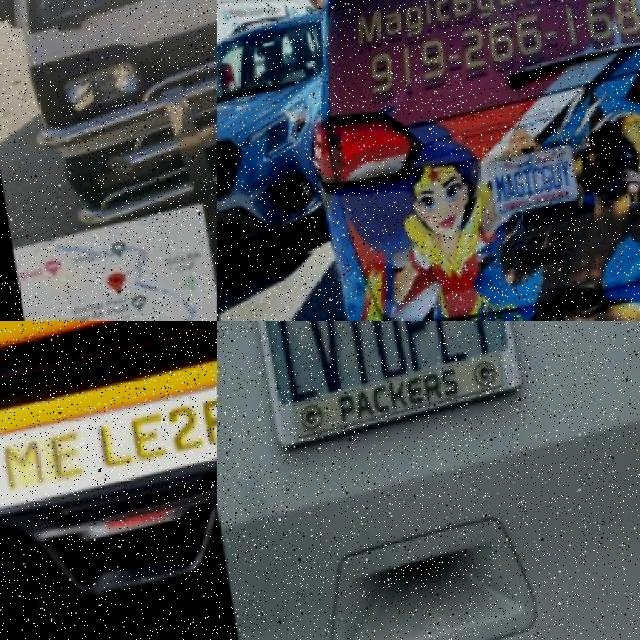licenseplate: (240, 320, 528, 457), (0, 392, 217, 512), (489, 147, 580, 222)
